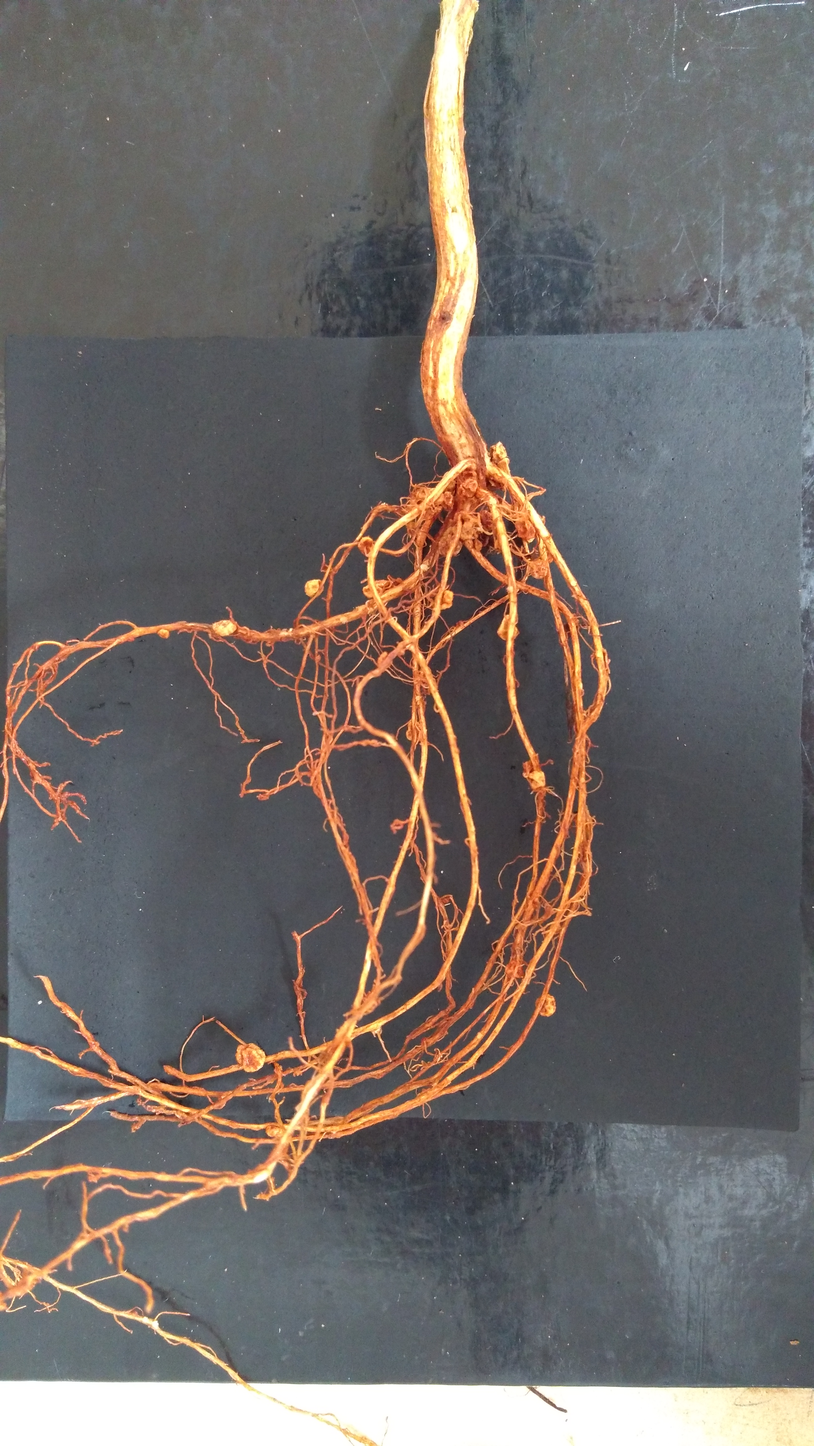nodule: (235, 1043, 266, 1074), (436, 525, 463, 557), (406, 487, 444, 506), (460, 511, 483, 540), (427, 588, 454, 611), (497, 614, 520, 641), (362, 579, 392, 598), (535, 993, 557, 1017), (361, 991, 383, 1014), (514, 517, 536, 539), (457, 478, 479, 499), (528, 557, 548, 579), (405, 719, 425, 741), (489, 441, 508, 464), (212, 620, 237, 637), (416, 505, 444, 520), (504, 960, 526, 979), (478, 508, 495, 531), (441, 469, 457, 493), (304, 579, 324, 598), (358, 537, 376, 558), (478, 532, 499, 550), (527, 770, 546, 789), (440, 490, 455, 513), (418, 665, 432, 689), (377, 651, 392, 671), (264, 1124, 285, 1138), (486, 477, 506, 491), (521, 759, 534, 779), (549, 920, 562, 933), (545, 550, 556, 564), (157, 629, 169, 639), (474, 537, 482, 552), (419, 563, 430, 572), (540, 514, 546, 526), (457, 619, 465, 627), (442, 897, 451, 904), (315, 653, 321, 662)
